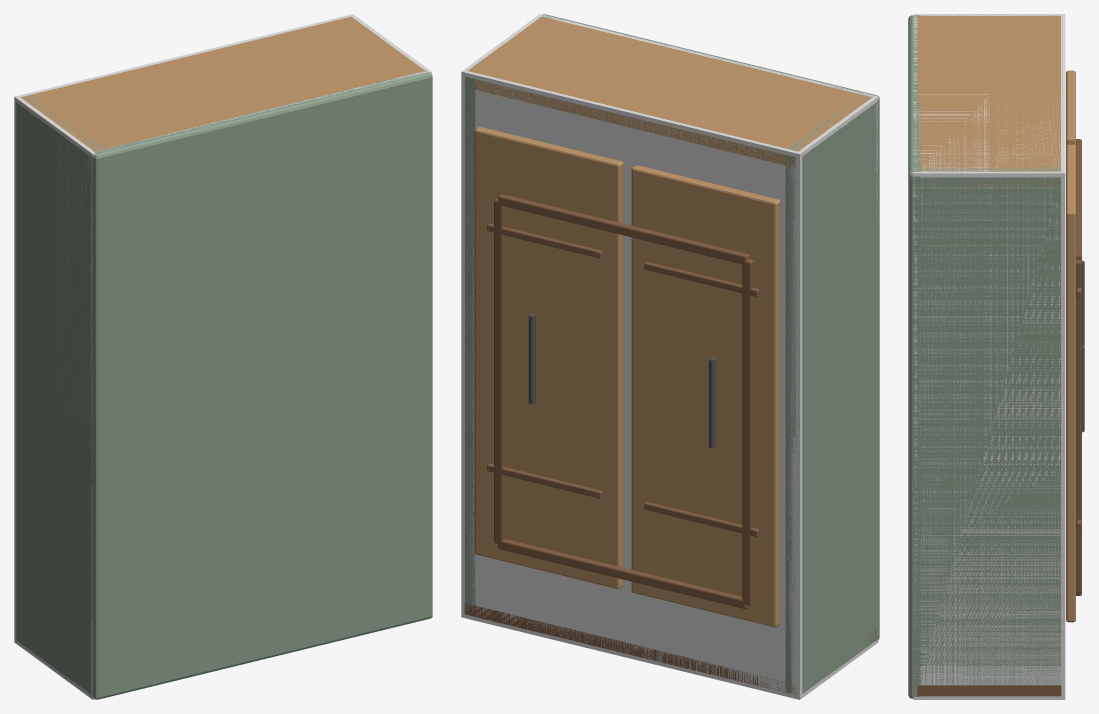
Rendered from premium.glb.
The picture shows the model from 3 angles, left to right: view 1: azimuth 30°, elevation 25°; view 2: azimuth 150°, elevation 25°; view 3: azimuth 270°, elevation 25°; orthographic projection. The views are drawn at different scales.
Visible parts, largest first — view 1: Cabinet_Back.002, Cabinet_Side.004, Cabinet_Top.002, COL_OFFICE_CABINETS_PREMIUM; view 2: Cabinet_Door_-1.002, Cabinet_Door_1.002, COL_OFFICE_CABINETS_PREMIUM, Cabinet_Side.004, Cabinet_Top.002, Cabinet_Side.005, Cabinet_TrimLeft, Cabinet_TrimRight, Cabinet_Bottom.002, Cabinet_TrimTop, Cabinet_TrimBottom, Cabinet_Back.002 (+5 smaller); view 3: Cabinet_Side.005, COL_OFFICE_CABINETS_PREMIUM, Cabinet_Top.002, Cabinet_Back.002, Cabinet_Door_1.002, Cabinet_TrimRight, Cabinet_Bottom.002, Cabinet_Door_-1.002, Cabinet_TrimTop.
Part boxes in pixels (x1,y1,x2,y2): Cabinet_Back.002: [89, 70, 432, 699]; Cabinet_Side.004: [16, 95, 103, 693]; Cabinet_Top.002: [21, 16, 424, 156]; COL_OFFICE_CABINETS_PREMIUM: [14, 14, 431, 699]; Cabinet_Door_-1.002: [631, 165, 780, 627]; Cabinet_Door_1.002: [474, 126, 623, 588]; COL_OFFICE_CABINETS_PREMIUM: [461, 14, 878, 699]; Cabinet_Side.004: [785, 95, 876, 693]; Cabinet_Top.002: [466, 16, 871, 167]; Cabinet_Side.005: [465, 17, 540, 614]; Cabinet_TrimLeft: [742, 259, 753, 605]; Cabinet_TrimRight: [494, 197, 505, 544]; Cabinet_Bottom.002: [464, 603, 876, 694]; Cabinet_TrimTop: [498, 194, 748, 264]; Cabinet_TrimBottom: [498, 539, 748, 608]; Cabinet_Back.002: [542, 14, 879, 641]; Cabinet_Side.005: [917, 166, 1060, 685]; COL_OFFICE_CABINETS_PREMIUM: [913, 14, 1065, 699]; Cabinet_Top.002: [917, 16, 1060, 186]; Cabinet_Back.002: [908, 15, 920, 698]; Cabinet_Door_1.002: [1066, 144, 1075, 622]; Cabinet_TrimRight: [1076, 260, 1081, 593]; Cabinet_Bottom.002: [917, 685, 1061, 696]; Cabinet_Door_-1.002: [1066, 70, 1075, 145]; Cabinet_TrimTop: [1076, 139, 1081, 260].
Size of the model in its own units: 1.31 by 2.02 by 0.6119.
